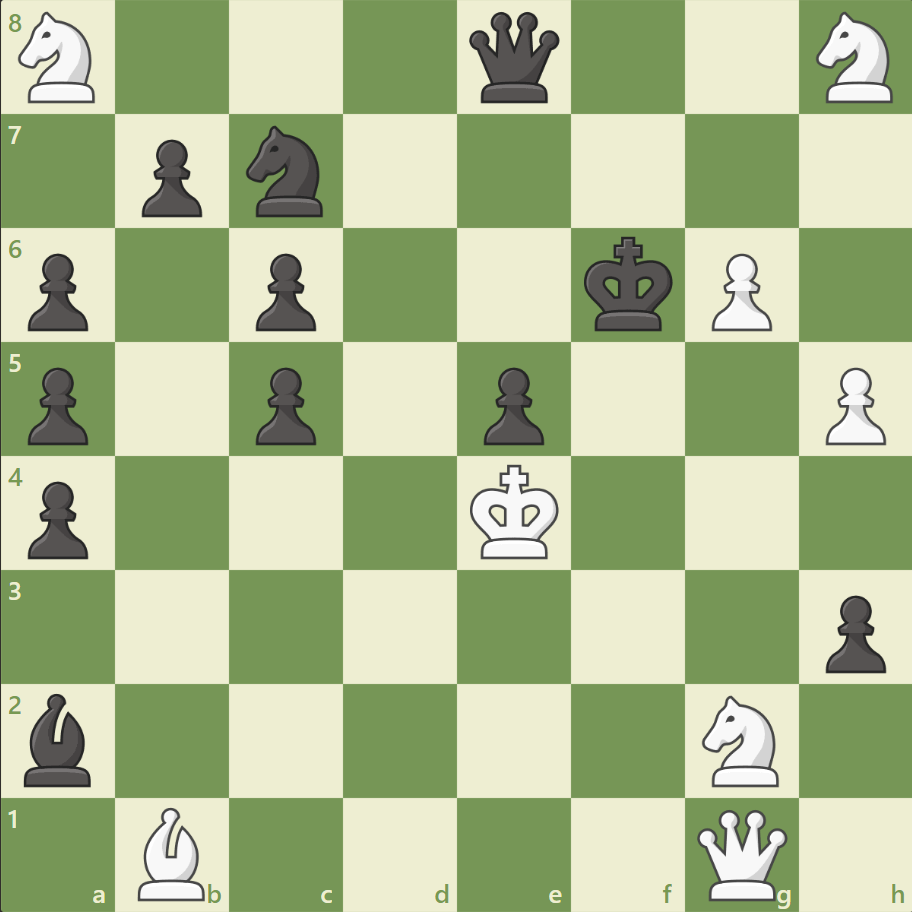B: (131, 801, 215, 904)
K: (465, 458, 565, 566)
N: (11, 7, 108, 110), (806, 7, 903, 110), (692, 688, 789, 791)
P: (701, 246, 776, 337), (815, 359, 889, 450)
Q: (691, 804, 790, 903)
b: (17, 687, 101, 790)
k: (579, 231, 679, 339)
n: (238, 121, 335, 223)
p: (133, 132, 208, 223), (20, 246, 95, 337), (247, 246, 322, 337), (20, 359, 95, 450), (247, 359, 322, 450), (474, 359, 549, 450), (20, 473, 95, 564), (815, 586, 889, 677)
q: (464, 9, 563, 108)
